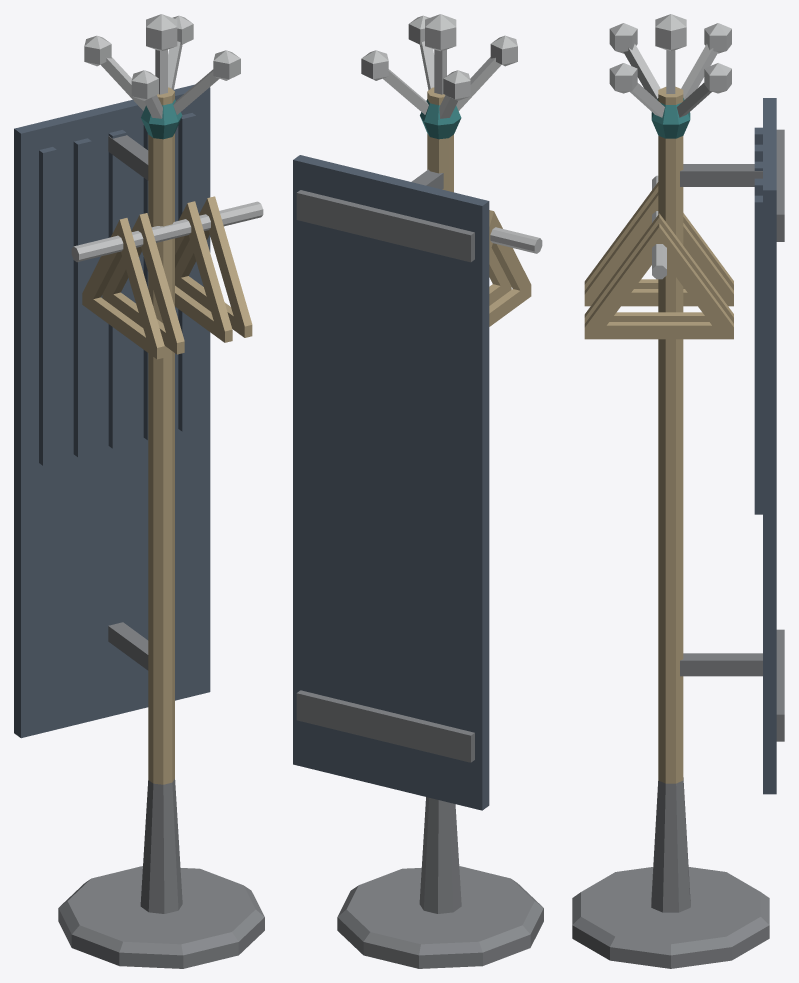
Rendered from coat-rack.glb.
The picture shows the model from 3 angles, left to right: view 1: azimuth 30°, elevation 25°; view 2: azimuth 150°, elevation 25°; view 3: azimuth 270°, elevation 25°; orthographic projection.
Visible parts, largest first — view 1: coat-rack, hangers; view 2: coat-rack, hangers; view 3: coat-rack, hangers.
Part boxes in pixels (left/top/right/bottom): coat-rack: left=14, top=14, right=264, bottom=968; hangers: left=82, top=196, right=252, bottom=359; coat-rack: left=293, top=14, right=543, bottom=968; hangers: left=489, top=210, right=531, bottom=326; coat-rack: left=572, top=14, right=784, bottom=968; hangers: left=584, top=182, right=733, bottom=339.
Size of the model in its own units: 0.38 by 1.75 by 0.3697.
